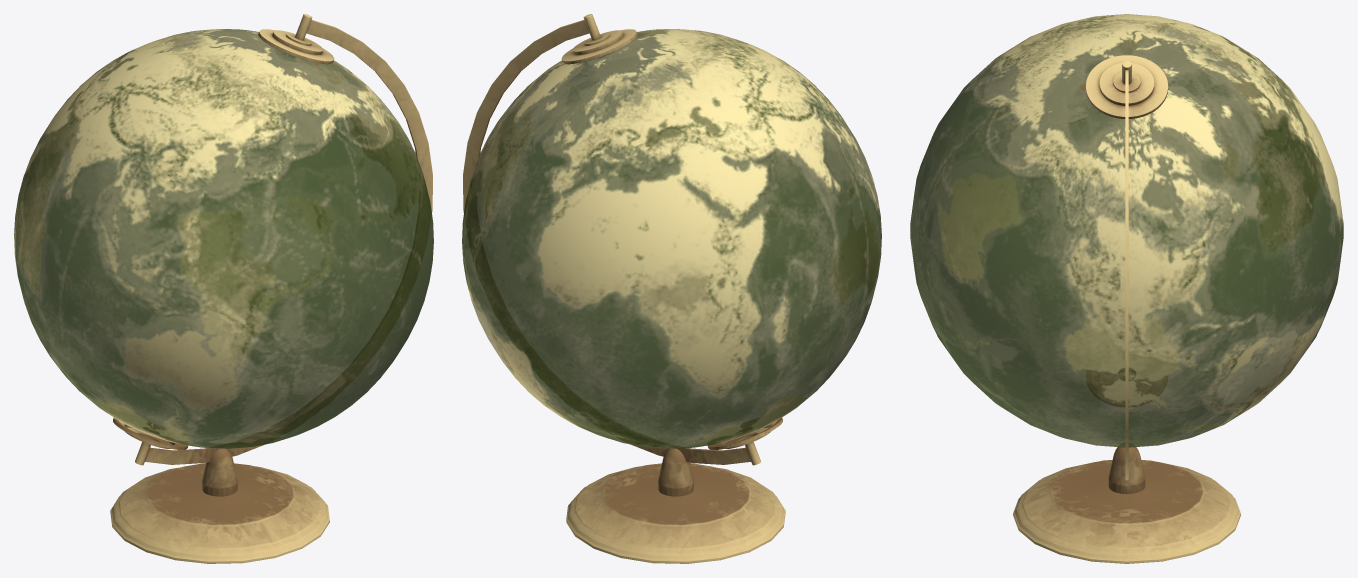
Rendered from glass_globe.glb.
3 renders of one model, left to right at view 1: azimuth 30°, elevation 25°; view 2: azimuth 150°, elevation 25°; view 3: azimuth 270°, elevation 25°, orthographic. The views are drawn at different scales.
Parts seen in each view (by area): view 1: Object_2, Object_3; view 2: Object_2, Object_3; view 3: Object_2, Object_3.
Part boxes in pixels (x1,y1,x2,y2): Object_2: (14,29,433,448); Object_3: (110,14,432,563); Object_2: (462,29,881,448); Object_3: (463,14,785,563); Object_2: (910,14,1343,447); Object_3: (1013,55,1240,563).
Bounding box in the file's own units: 2.11 × 2.5 × 1.97.
Materials: 2 (2 with a texture image).
